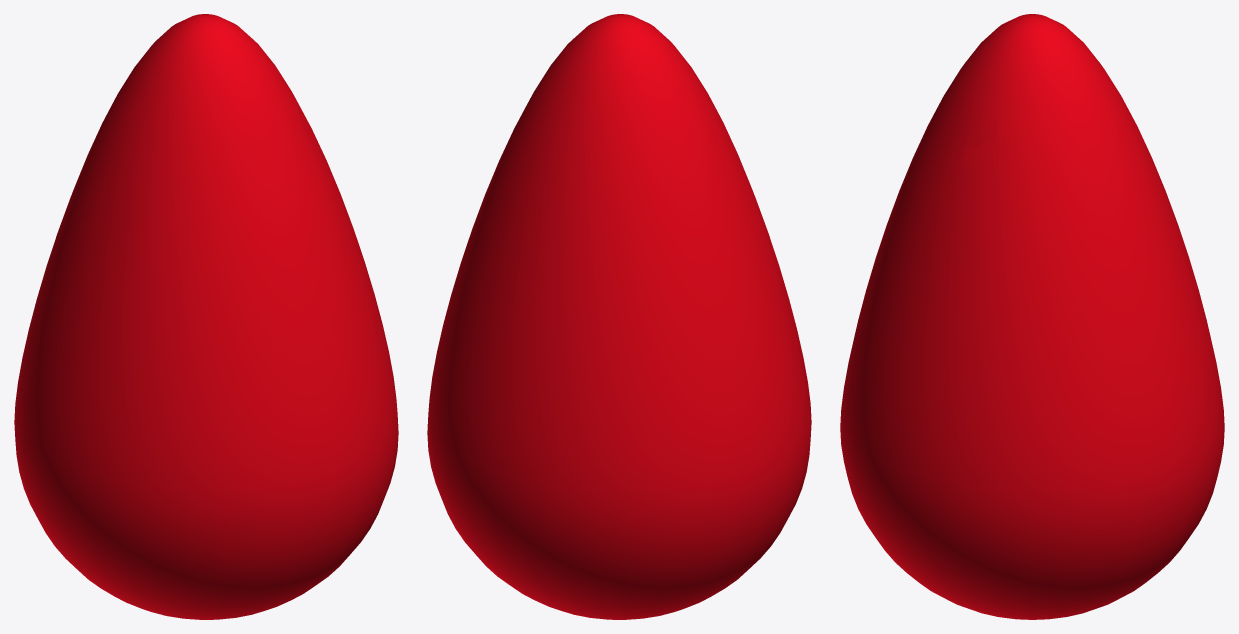
File: smooth_sphere_6.glb
3 views of the same model, side by side, from view 1: azimuth 30°, elevation 25°; view 2: azimuth 150°, elevation 25°; view 3: azimuth 270°, elevation 25° (orthographic).
Visible parts, largest first — view 1: Sphere.004; view 2: Sphere.004; view 3: Sphere.004.
Part boxes in pixels (x1=…): Sphere.004: x1=14, y1=14, x2=398, y2=619; Sphere.004: x1=427, y1=14, x2=811, y2=619; Sphere.004: x1=840, y1=14, x2=1224, y2=619.
Size of the model in its own units: 2.03 by 3.4 by 2.03.
